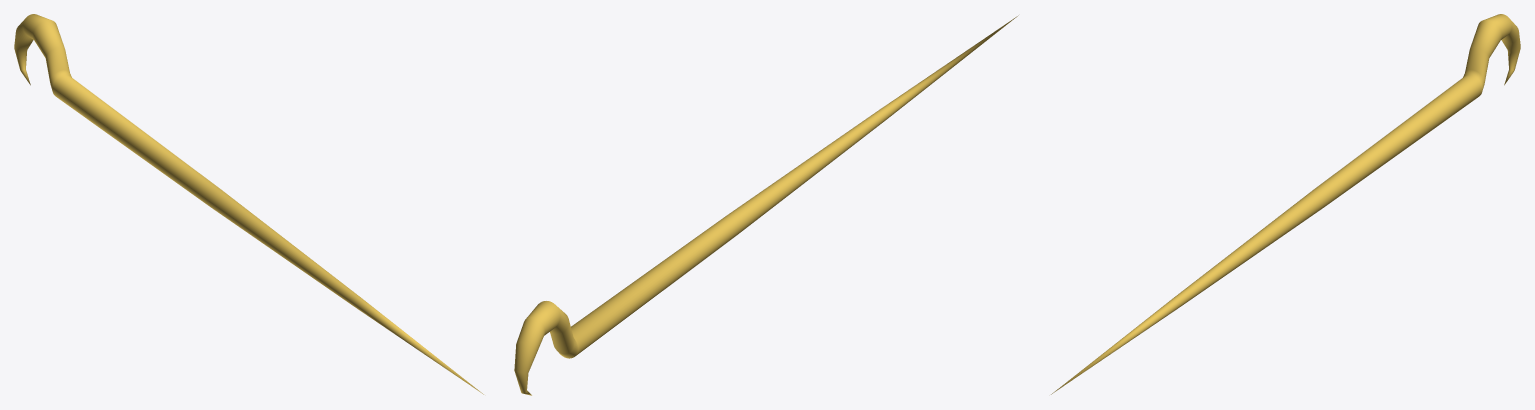
File: pin.glb
The picture shows the model from 3 angles, left to right: view 1: azimuth 30°, elevation 25°; view 2: azimuth 150°, elevation 25°; view 3: azimuth 330°, elevation 25°; orthographic projection. The views are drawn at different scales.
Parts seen in each view (by area): view 1: Thrown Pin; view 2: Thrown Pin; view 3: Thrown Pin.
Boxes of the visible parts, left/top/right/bottom form: Thrown Pin: left=14, top=14, right=483, bottom=394; Thrown Pin: left=514, top=15, right=1018, bottom=395; Thrown Pin: left=1051, top=14, right=1520, bottom=394.
Size of the model in its own units: 0.2978 by 0.9135 by 10.06.
